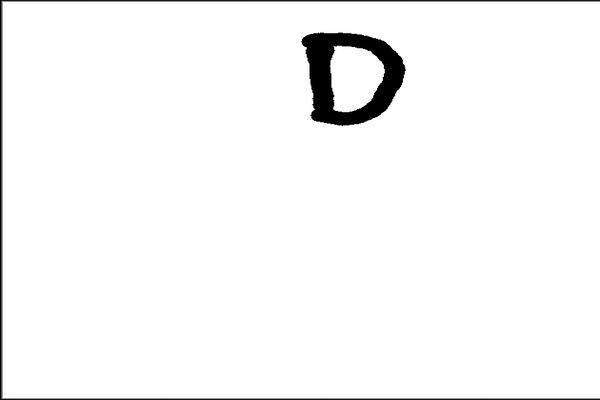D: (297, 26, 408, 127)
